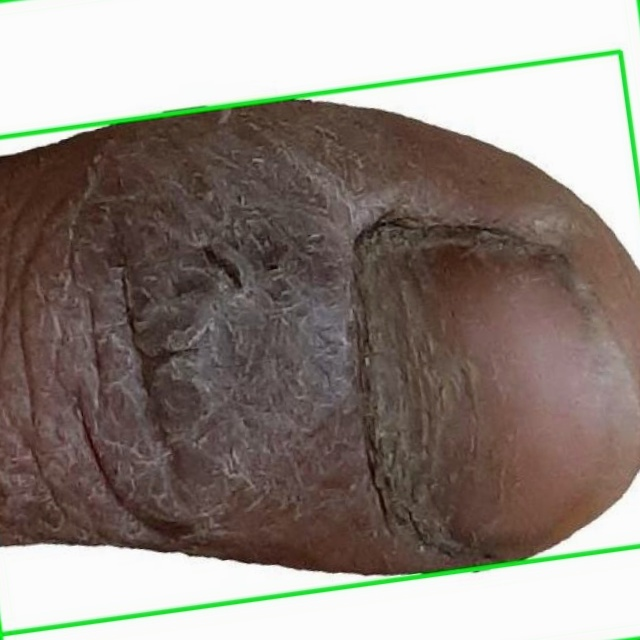Contact Dermatitis: (0, 0, 639, 639), (0, 51, 639, 634)
